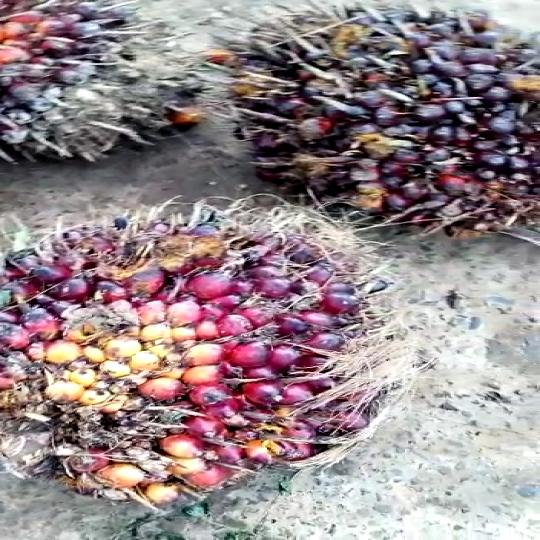masak: (2, 193, 448, 504), (203, 0, 540, 253)
